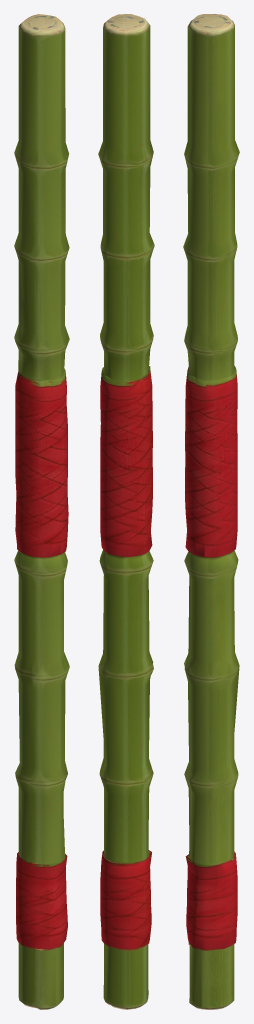
Rendered from Staff.fbx.
3 renders of one model, left to right at view 1: azimuth 30°, elevation 25°; view 2: azimuth 150°, elevation 25°; view 3: azimuth 330°, elevation 25°, orthographic.
Visible parts, largest first — view 1: Staff; view 2: Staff; view 3: Staff.
Part boxes in pixels (x1,y1,x2,y2): Staff: (14, 14, 69, 1009); Staff: (98, 14, 154, 1009); Staff: (183, 14, 239, 1009).
Size of the model in its own units: 0.1056 by 2.1 by 0.1024.
Materials: 1 (1 with a texture image).
